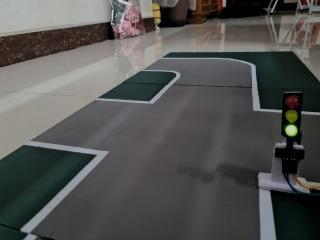green: (267, 82, 311, 148)
